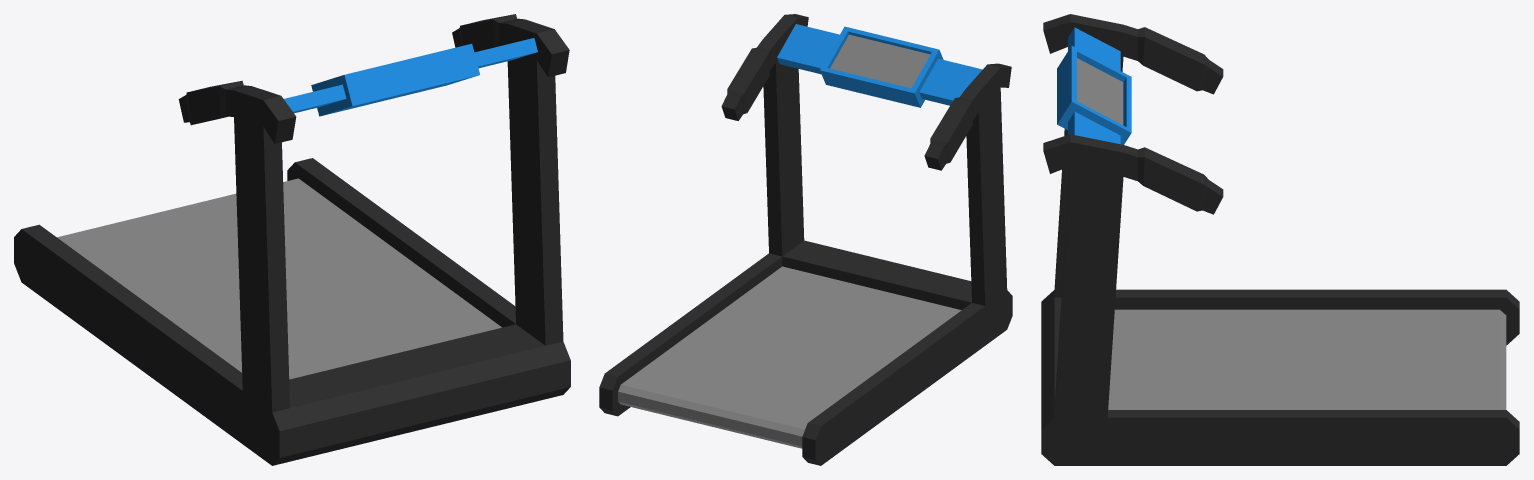
Rendered from kosubandı.fbx.
3 views of the same model, side by side, from view 1: azimuth 30°, elevation 25°; view 2: azimuth 150°, elevation 25°; view 3: azimuth 270°, elevation 25° (orthographic). The views are drawn at different scales.
Parts seen in each view (by area): view 1: Treadmill_base, Treadmill_Panel; view 2: Treadmill_base, Treadmill_Panel; view 3: Treadmill_base, Treadmill_Panel.
Boxes of the visible parts, x1,y1,x2,y2 form: Treadmill_base: (14, 14, 570, 465); Treadmill_Panel: (284, 38, 537, 116); Treadmill_base: (599, 14, 1012, 465); Treadmill_Panel: (777, 24, 982, 107); Treadmill_base: (1041, 14, 1519, 465); Treadmill_Panel: (1057, 27, 1131, 144).
Bounding box in the file's own units: 0.928 × 1.09 × 1.44.
